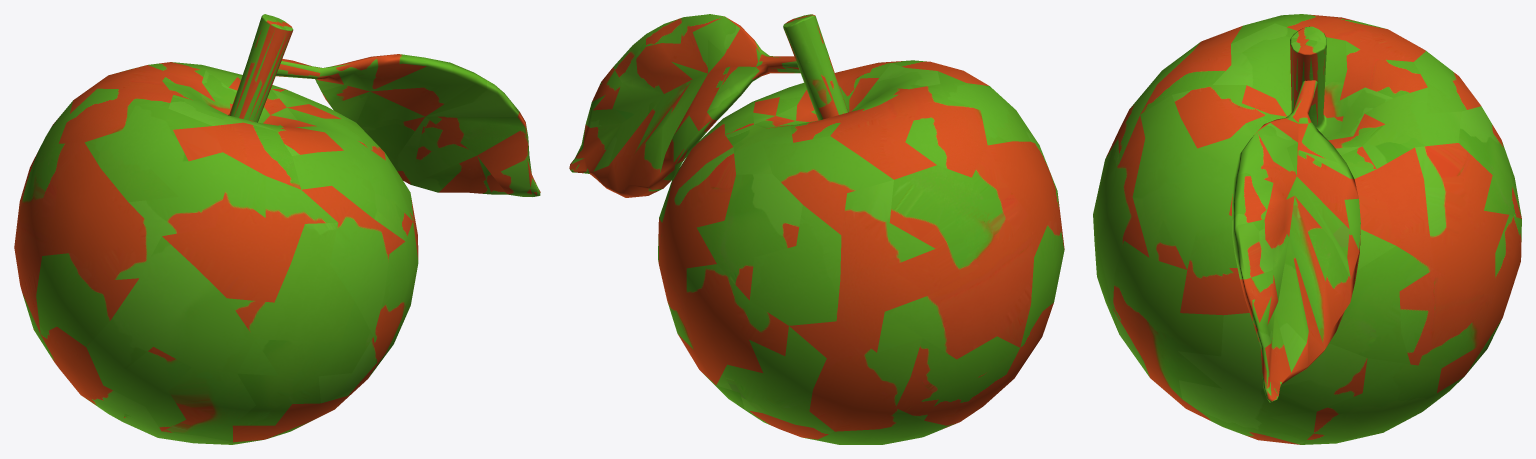
File: Kayisi.fbx
The picture shows the model from 3 angles, left to right: view 1: azimuth 30°, elevation 25°; view 2: azimuth 150°, elevation 25°; view 3: azimuth 270°, elevation 25°; orthographic projection. The views are drawn at different scales.
Visible parts, largest first — view 1: Mesh_0; view 2: Mesh_0; view 3: Mesh_0.
Part boxes in pixels (x1=…): Mesh_0: x1=14, y1=14, x2=540, y2=444; Mesh_0: x1=569, y1=14, x2=1064, y2=444; Mesh_0: x1=1093, y1=14, x2=1521, y2=444.
Bounding box in the file's own units: 95.56 × 74.95 × 69.29.
